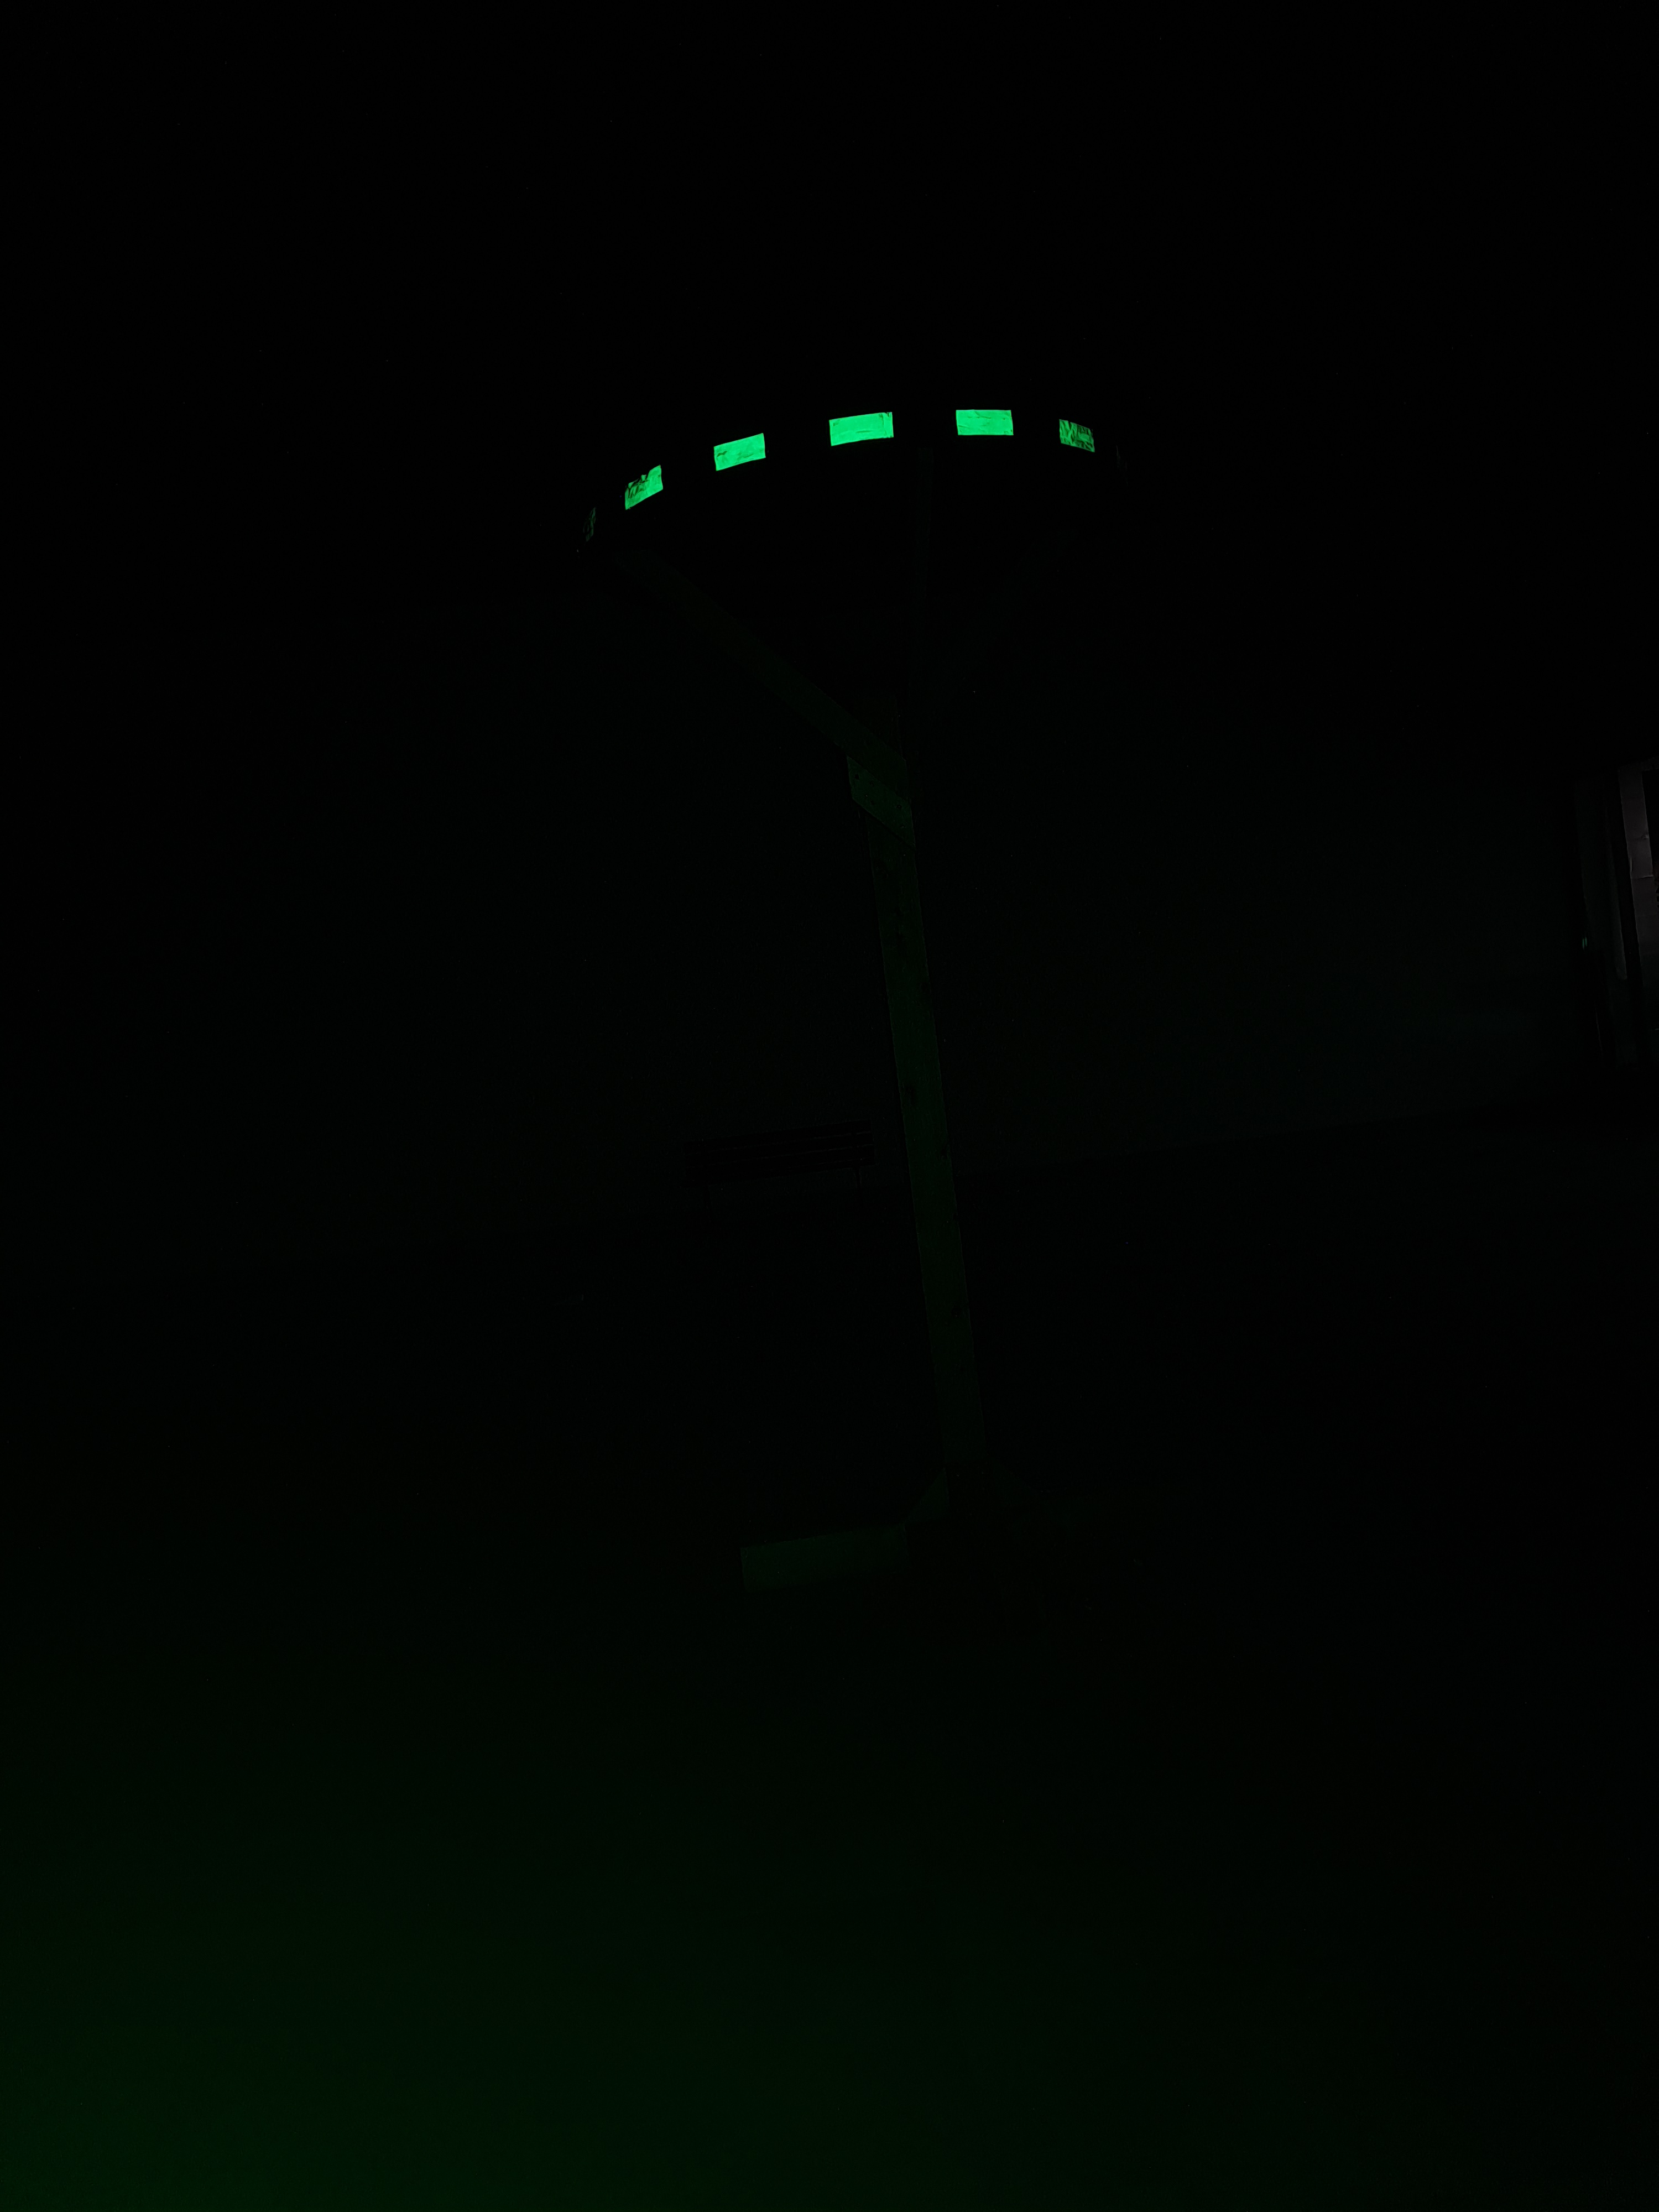hoop: (620, 408, 1100, 510)
